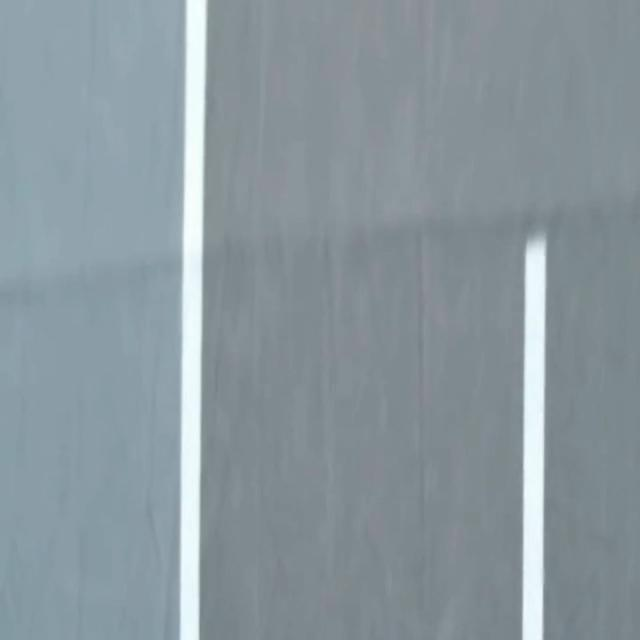center: (522, 232, 547, 639)
left: (179, 0, 207, 639)
